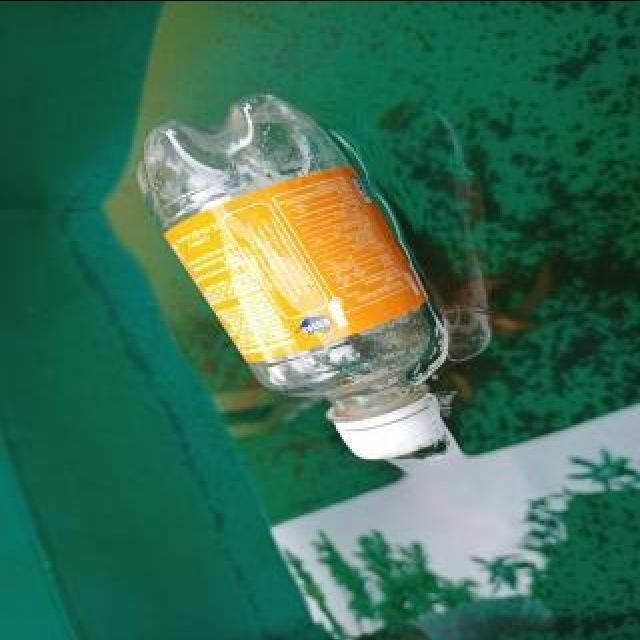Bottle: (130, 84, 458, 468)
